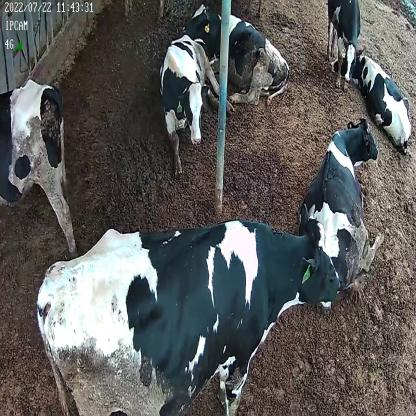cow: (35, 201, 342, 416), (297, 115, 385, 302), (182, 0, 293, 104), (156, 31, 233, 172), (331, 47, 413, 156), (325, 0, 360, 92)
